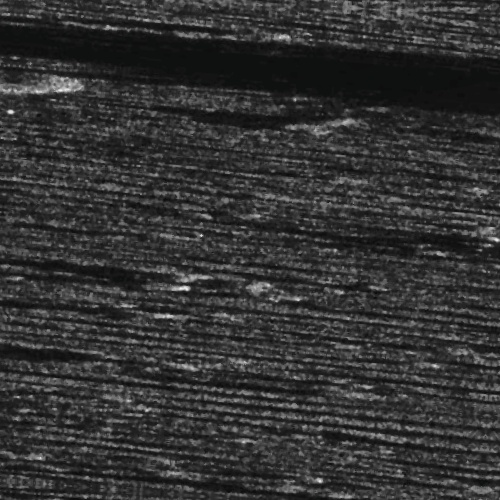object: (0, 75, 85, 126), (447, 100, 500, 127), (289, 107, 352, 120), (229, 24, 282, 37)
shadow: (282, 28, 500, 91), (187, 107, 320, 120), (436, 100, 500, 127), (187, 24, 255, 37)
